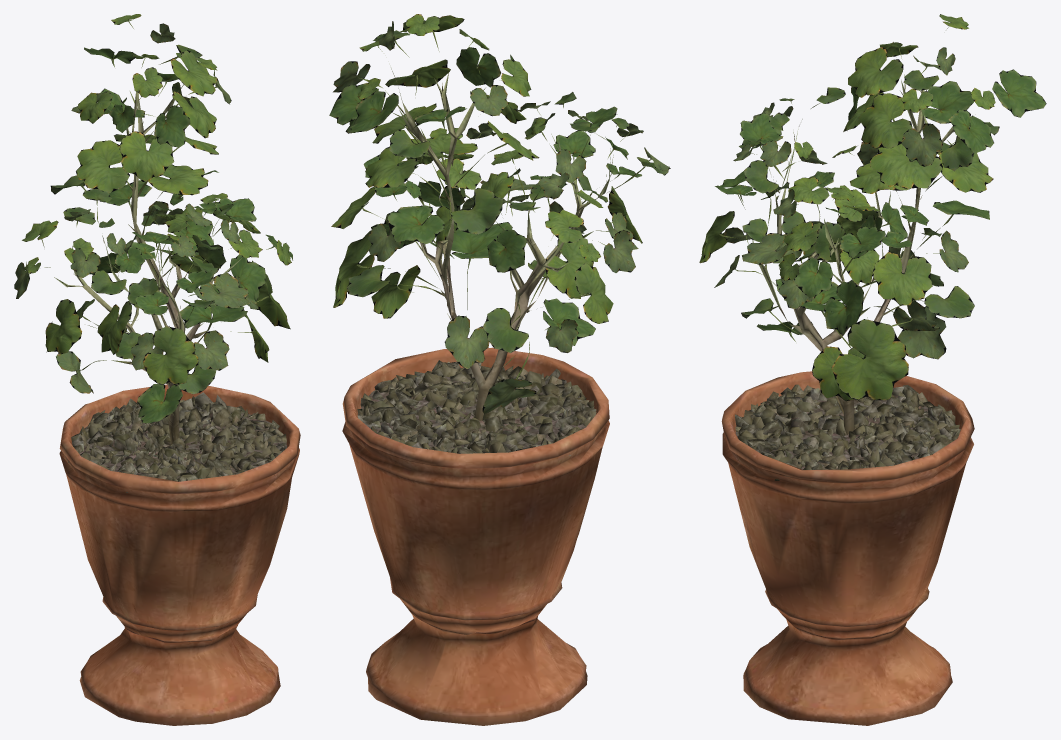
Rendered from pianta_alta.glb.
3 views of the same model, side by side, from view 1: azimuth 30°, elevation 25°; view 2: azimuth 150°, elevation 25°; view 3: azimuth 270°, elevation 25° (orthographic). The views are drawn at different scales.
Visible parts, largest first — view 1: potted_plant_01_stem, potted_plant_01_leaves; view 2: potted_plant_01_stem, potted_plant_01_leaves; view 3: potted_plant_01_stem, potted_plant_01_leaves.
Boxes of the visible parts, x1,y1,x2,y2 form: potted_plant_01_stem: [54, 90, 300, 725]; potted_plant_01_leaves: [14, 14, 292, 423]; potted_plant_01_stem: [342, 72, 610, 725]; potted_plant_01_leaves: [329, 14, 670, 413]; potted_plant_01_stem: [721, 80, 974, 725]; potted_plant_01_leaves: [699, 14, 1046, 401].
Size of the model in its own units: 0.5866 by 1.33 by 0.6336.
2 materials, 2 textured.
